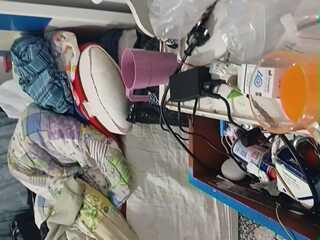cup: (143, 184, 252, 239), (184, 90, 255, 134), (143, 188, 192, 220), (201, 91, 249, 103)
